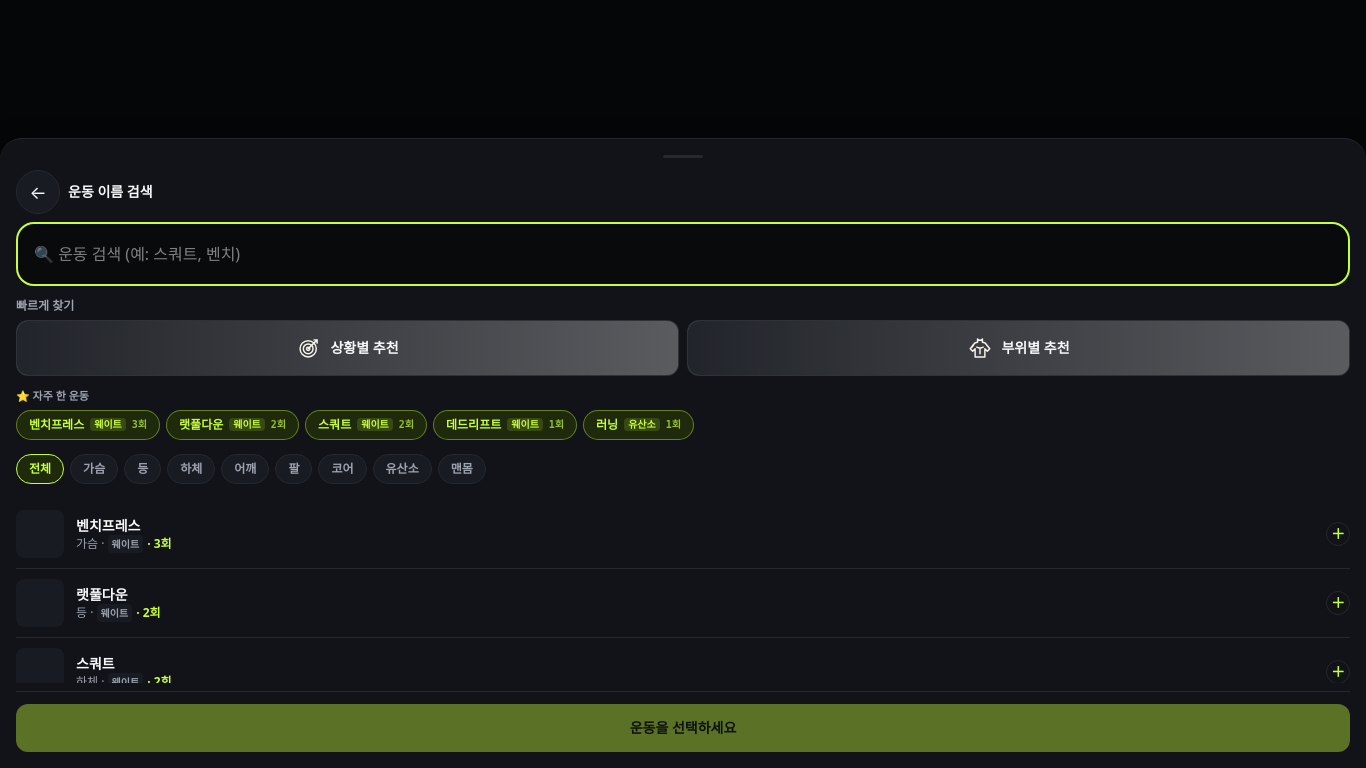
Test: ExercisePicker — ⭐ 자주 한 운동 (2026-08-02) › 검색어를 입력하면 칩 줄이 사라진다
The width and height of the screenshot is (1366, 768).
Expected: the text "⭐ 자주 한 운동" is shown, [16, 388, 89, 403]
Type "스쿼" into the field with placeholder "🔍 운동 검색 (예: 스쿼트, 벤치)". click: [683, 254]
box: [16, 222, 1350, 286]
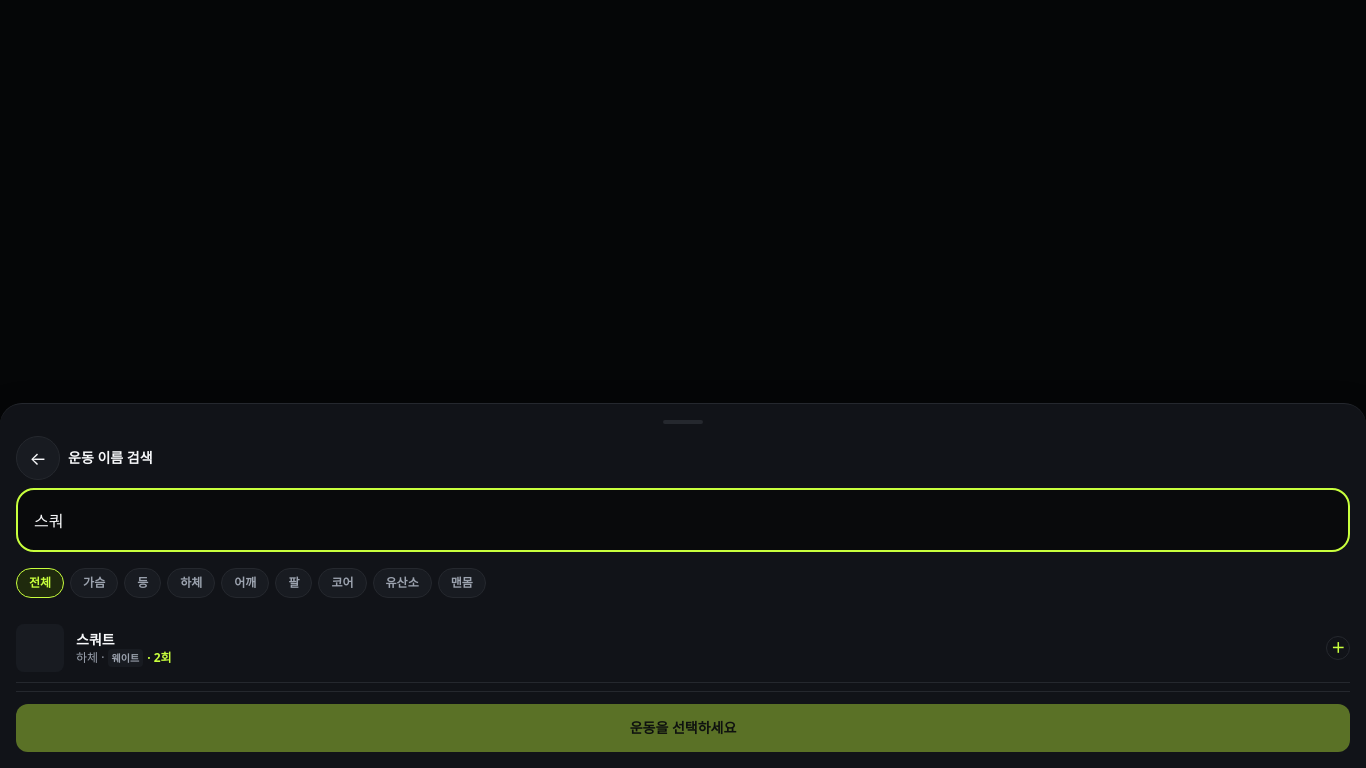
Result: the text "⭐ 자주 한 운동" is gone
